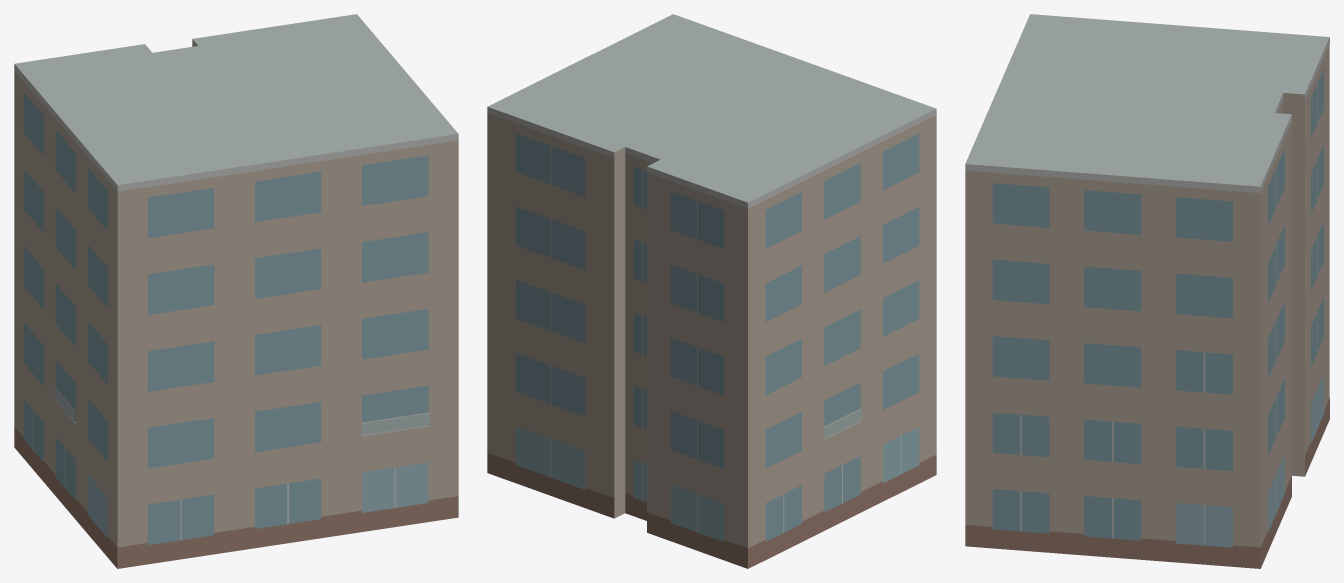
File: survey-upis-32772226.glb
3 views of the same model, side by side, from view 1: azimuth 30°, elevation 25°; view 2: azimuth 150°, elevation 25°; view 3: azimuth 270°, elevation 25° (orthographic). The views are drawn at different scales.
Parts seen in each view (by area): view 1: survey-upis-32772226.tmp; view 2: survey-upis-32772226.tmp; view 3: survey-upis-32772226.tmp.
Part boxes in pixels (x1,y1,x2,y2): survey-upis-32772226.tmp: (14, 14, 458, 568); survey-upis-32772226.tmp: (487, 14, 936, 568); survey-upis-32772226.tmp: (965, 14, 1329, 568).
Bounding box in the file's own units: 13.86 × 14.3 × 12.37.
